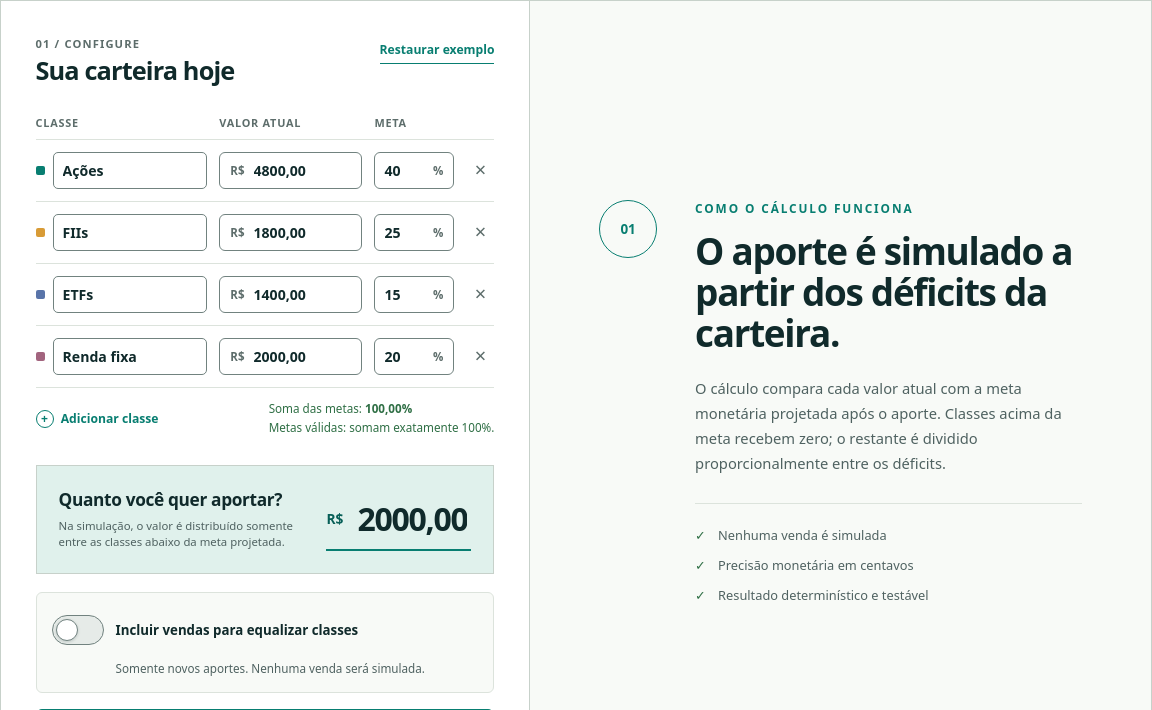
Test: ContributionSimulator › toggles simulated sales through its label and keyboard without submitting
Expected: the switch labelled "Incluir vendas para equalizar classes" is not checked, left=52, top=614, right=358, bottom=644
Click the text "Incluir vendas para equalizar classes" at (237, 630), box left=116, top=620, right=358, bottom=638
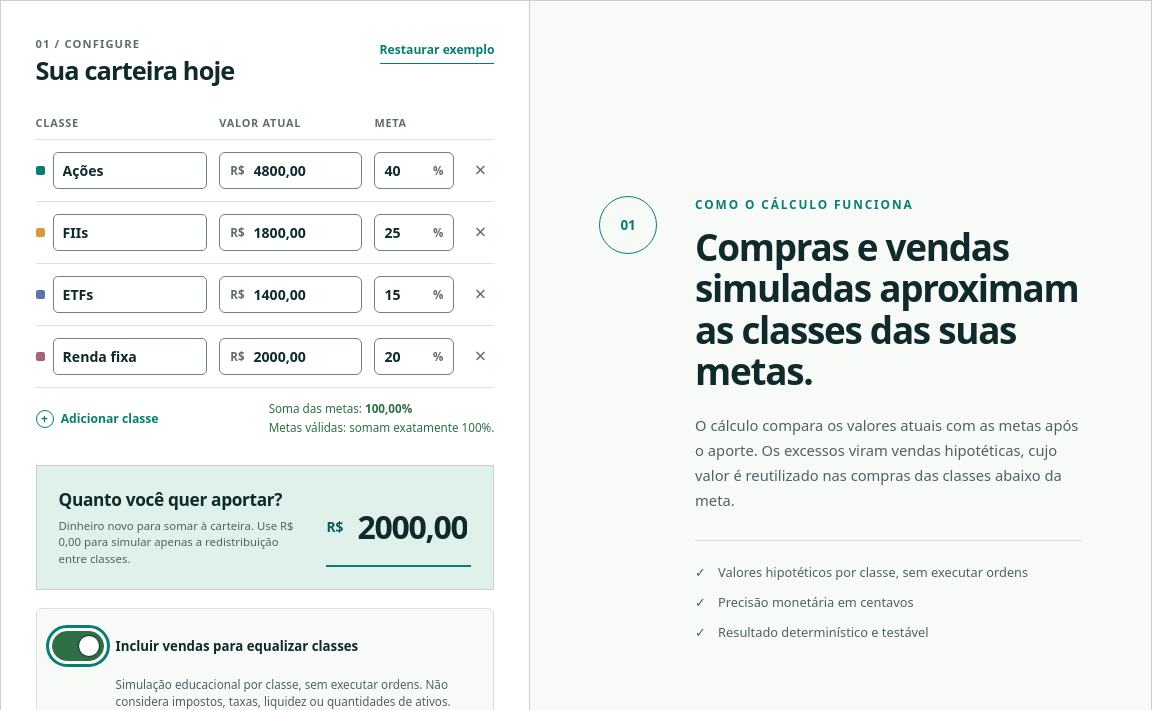
Expected: the switch labelled "Incluir vendas para equalizar classes" is checked, left=52, top=631, right=358, bottom=661
Click the field labelled "Quanto você quer aportar?" at (407, 526), box left=343, top=499, right=471, bottom=554
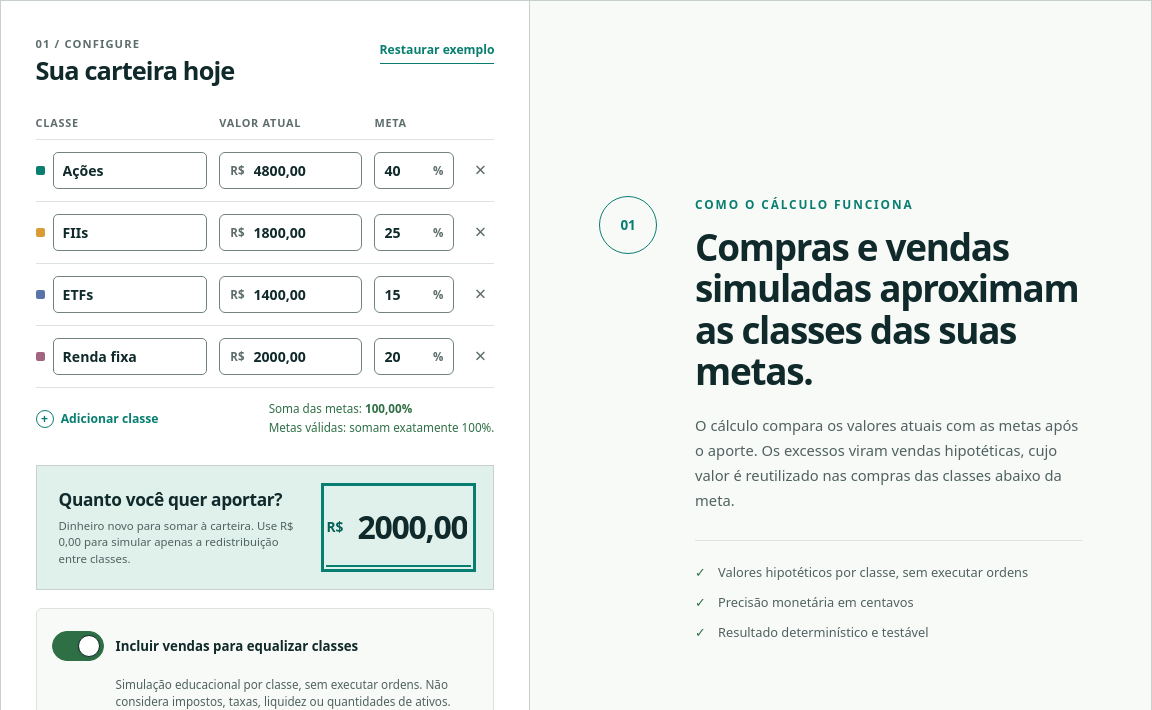
Press Tab
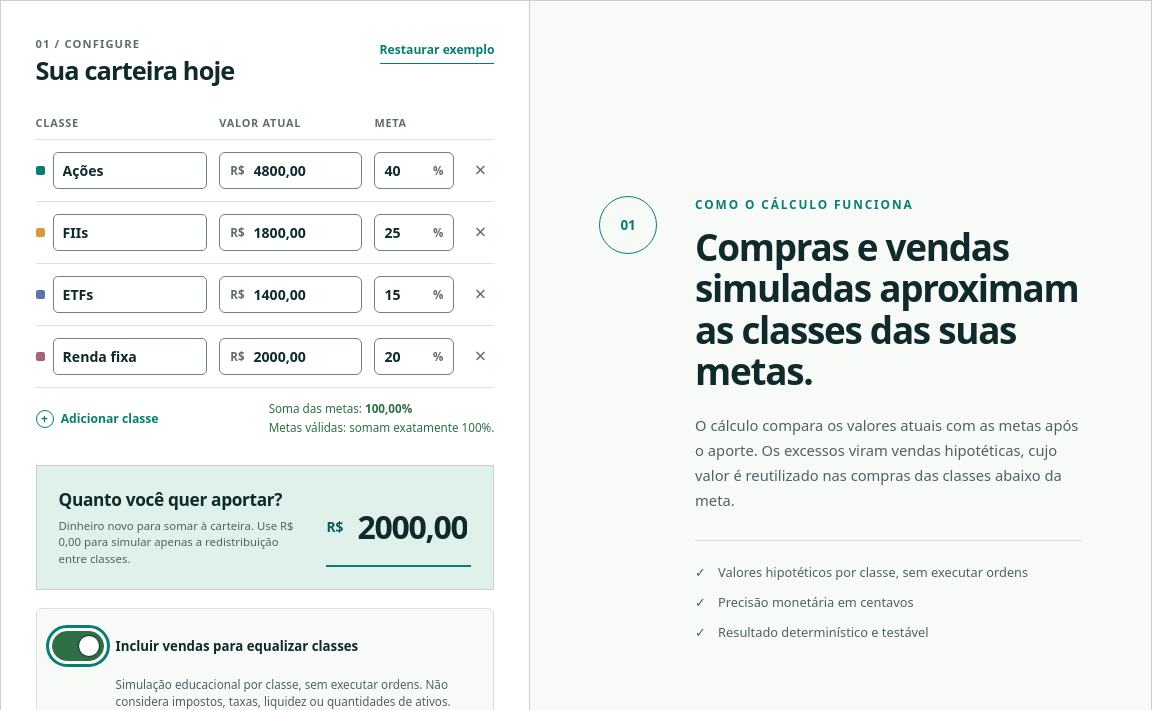
Type keys " "
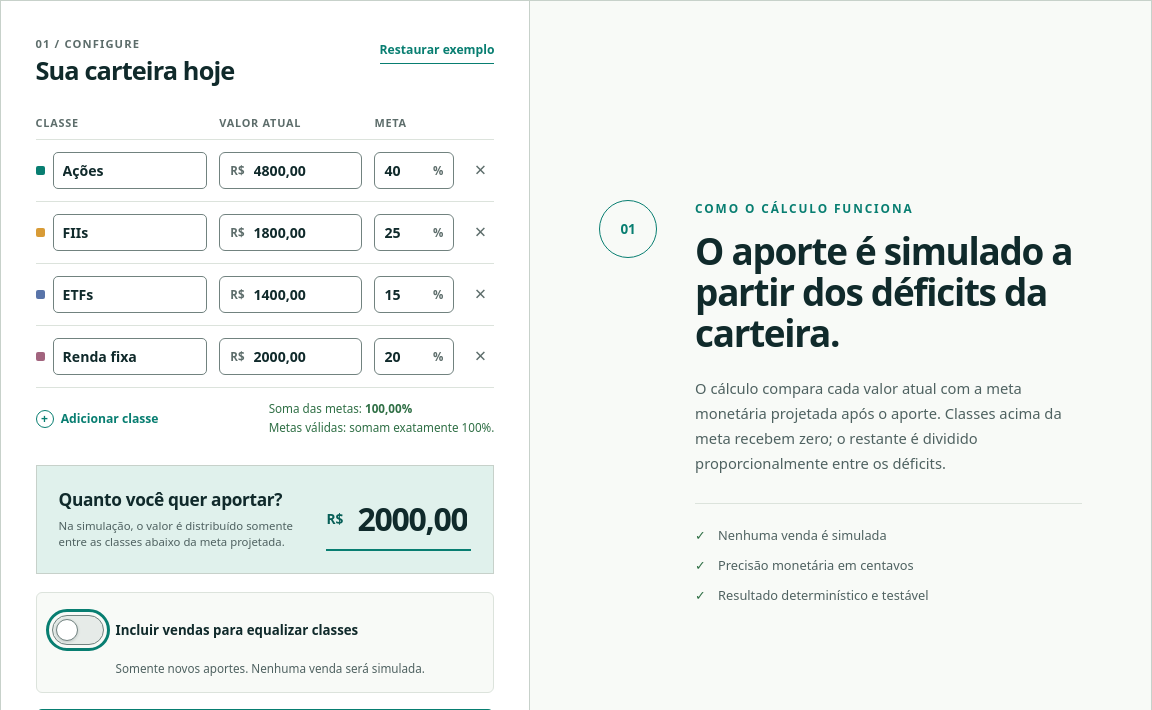
Expected: the switch labelled "Incluir vendas para equalizar classes" is not checked, left=52, top=614, right=358, bottom=644
